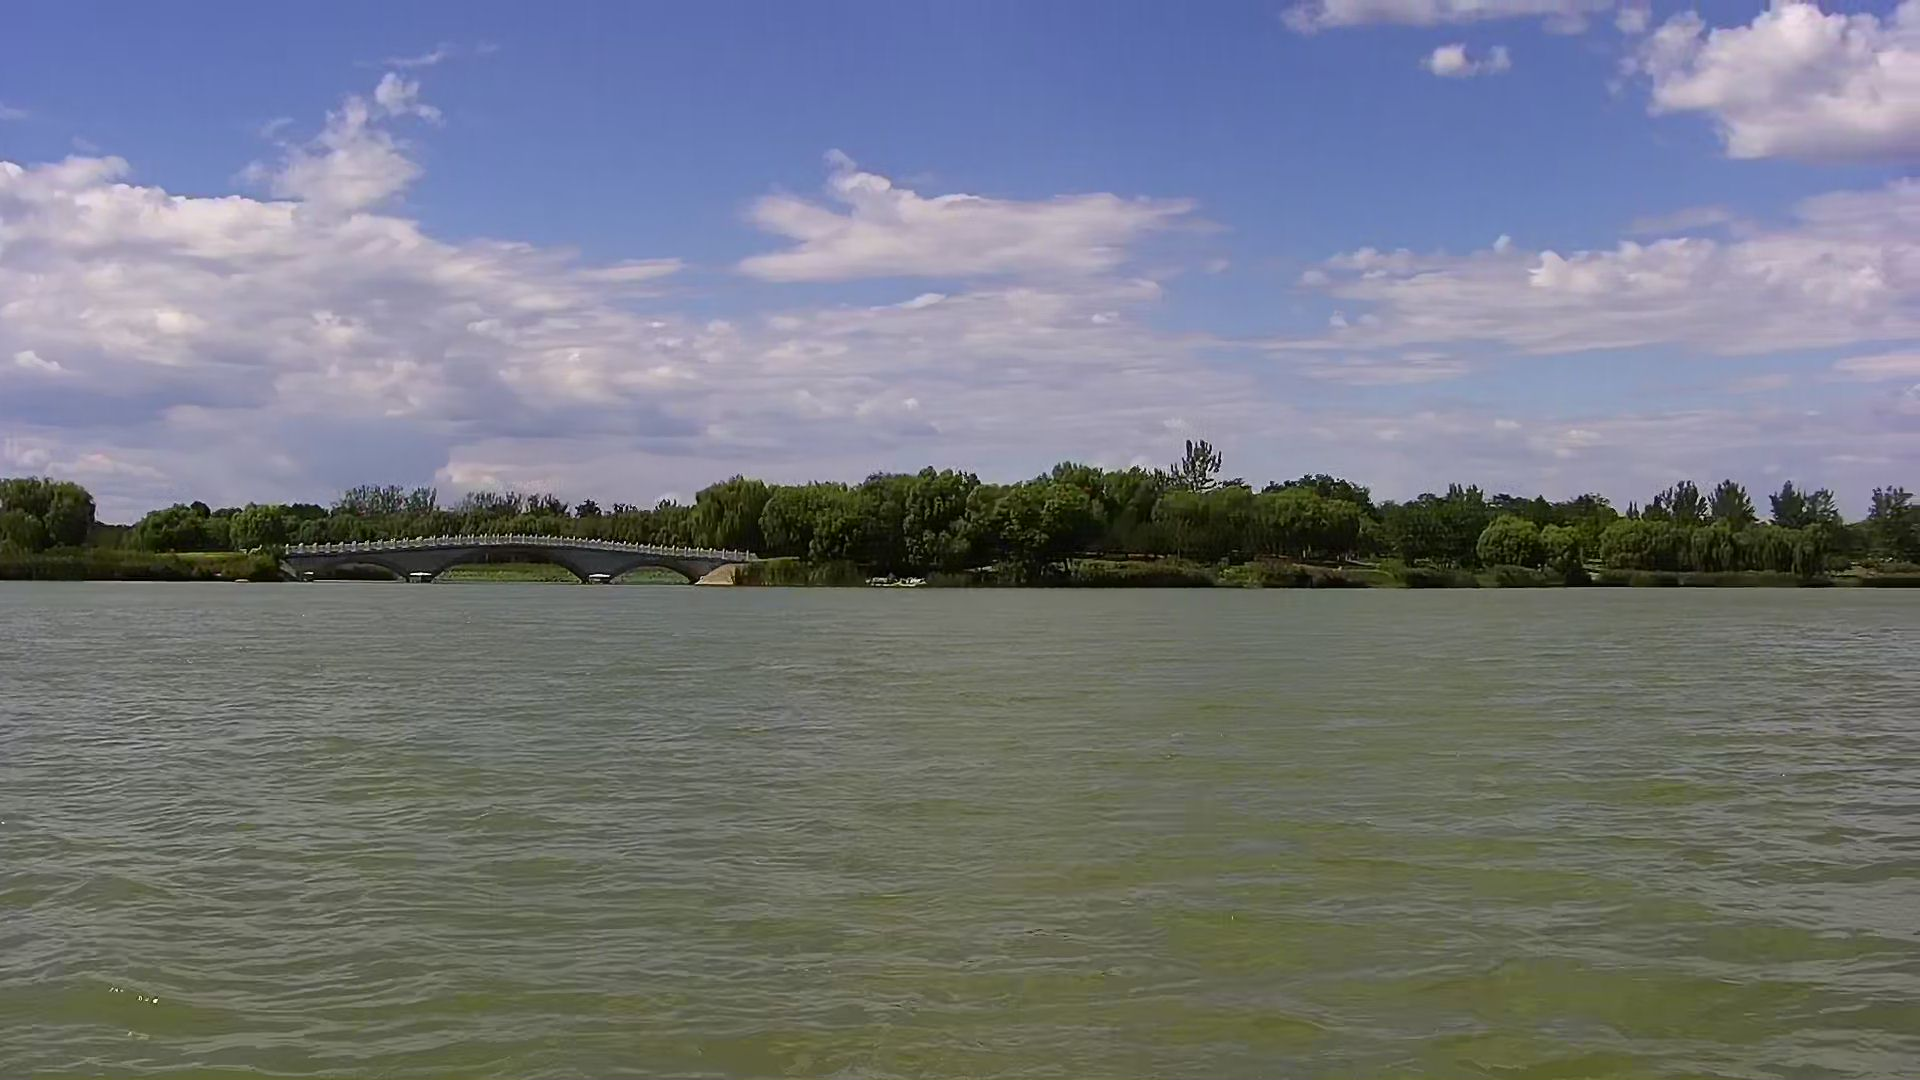bridge: (266, 527, 767, 585)
